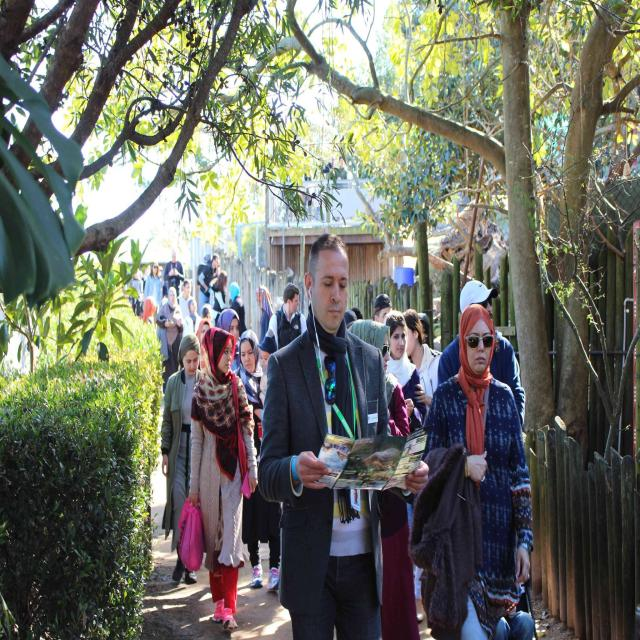body: (255, 230, 434, 640), (419, 303, 535, 640), (348, 318, 421, 640), (187, 326, 260, 634), (229, 328, 283, 591), (436, 278, 527, 432), (159, 332, 204, 587), (383, 309, 428, 434), (402, 306, 444, 416), (154, 285, 184, 395), (263, 281, 308, 352), (341, 296, 393, 336), (492, 599, 535, 640), (216, 306, 242, 372), (196, 254, 220, 319), (256, 335, 277, 407), (124, 260, 150, 316), (163, 248, 186, 304), (144, 260, 163, 325), (255, 284, 274, 346), (210, 269, 228, 327), (230, 281, 248, 338), (418, 310, 437, 355), (182, 298, 203, 338), (177, 279, 196, 319), (142, 295, 159, 339), (197, 303, 214, 346), (208, 266, 220, 304), (159, 280, 168, 299)
